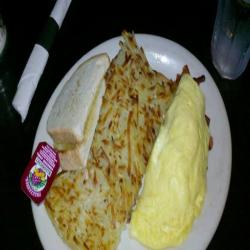bread: (47, 54, 111, 170)
omelette: (135, 78, 202, 243)
